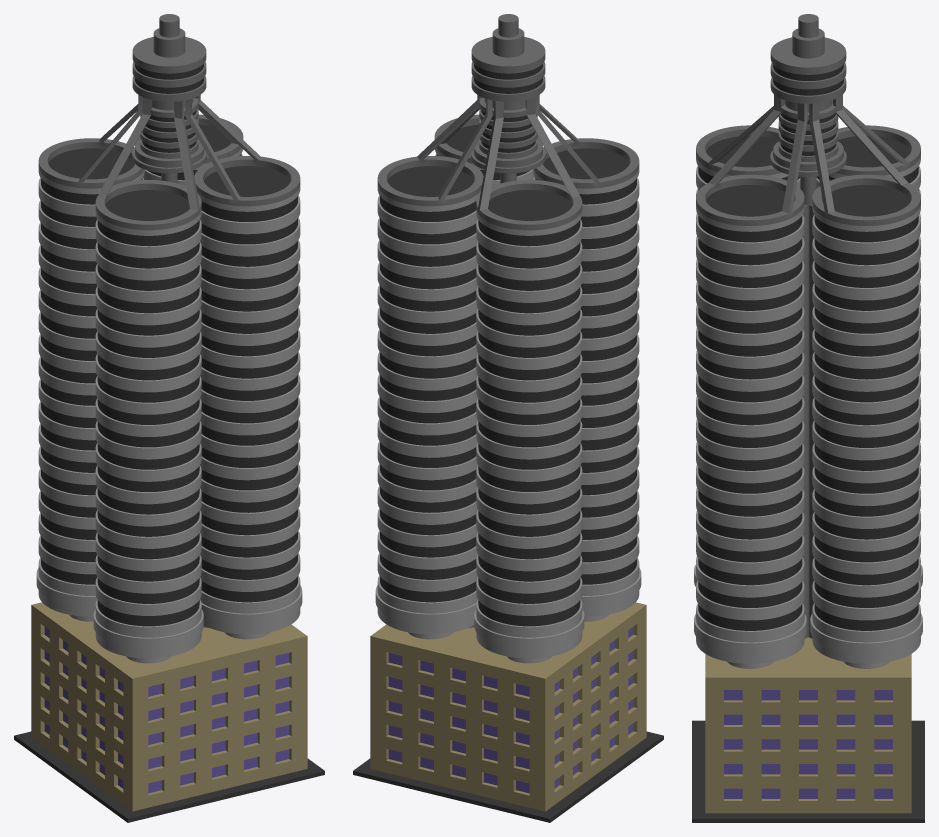
The picture shows the model from 3 angles, left to right: view 1: azimuth 30°, elevation 25°; view 2: azimuth 150°, elevation 25°; view 3: azimuth 270°, elevation 25°; orthographic projection. The views are drawn at different scales.
Visible parts, largest first — view 1: Cylinder.046, Cube.025, Cylinder.045, Floor.016; view 2: Cylinder.046, Cube.025, Cylinder.045, Floor.016; view 3: Cylinder.046, Cube.025, Cylinder.045, Floor.016.
Boxes of the visible parts, x1,y1,x2,y2 form: Cylinder.046: (36, 95, 302, 663); Cube.025: (31, 602, 307, 811); Cylinder.045: (132, 14, 209, 627); Floor.016: (14, 731, 324, 822); Cylinder.046: (375, 95, 641, 663); Cube.025: (370, 602, 646, 811); Cylinder.045: (468, 14, 545, 627); Floor.016: (353, 731, 663, 822); Cylinder.046: (694, 94, 922, 668); Cube.025: (705, 637, 911, 813); Cylinder.045: (770, 14, 846, 638); Floor.016: (692, 720, 924, 822).
Bounding box in the file's own units: 800 × 2866 × 800.
